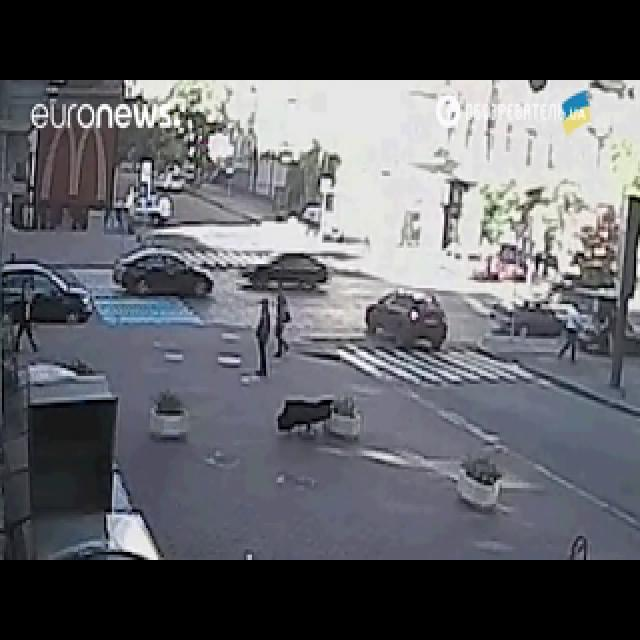explosion: (122, 119, 555, 640)
